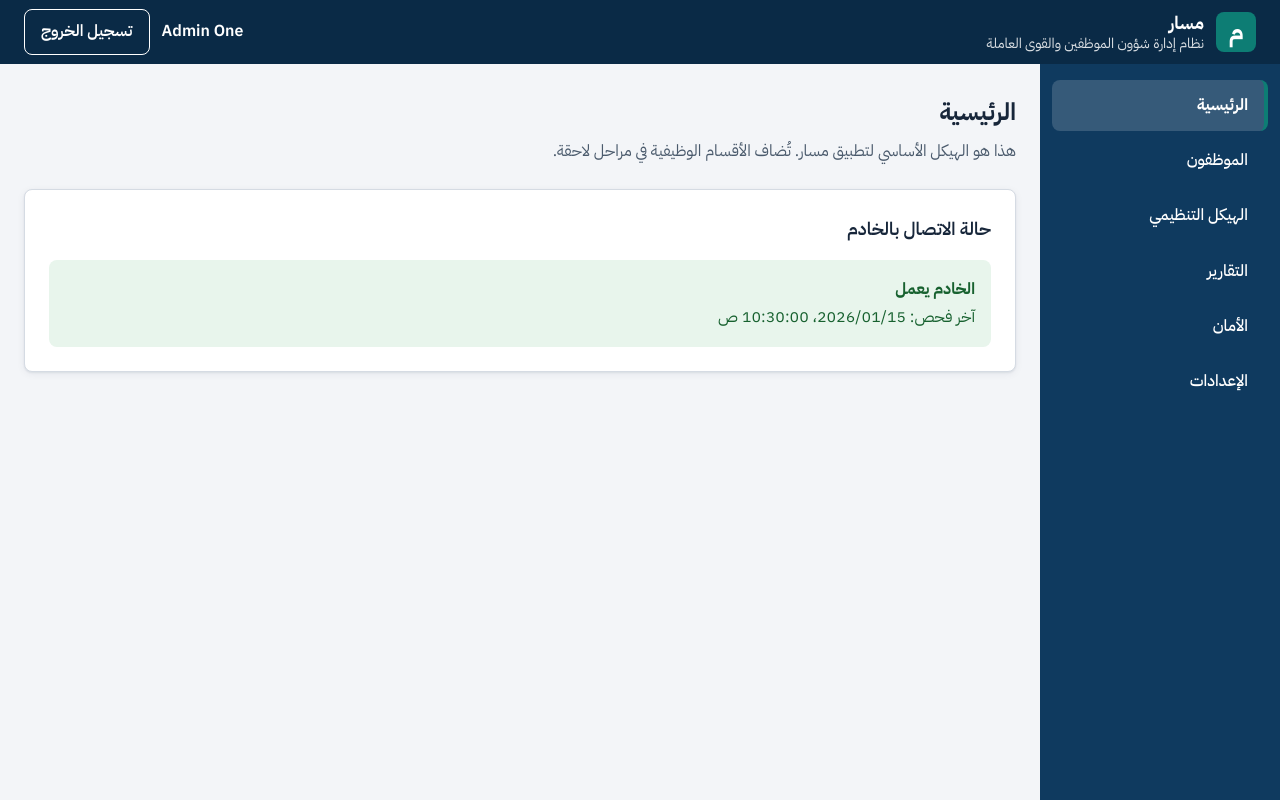
Test case: authentication › signs out back to the unauthenticated state
The width and height of the screenshot is (1280, 800).
Expected: the text "Admin One" is shown, [162,18,243,46]
Click the button "تسجيل الخروج". click: point(87, 32)
box: [24,9,150,55]
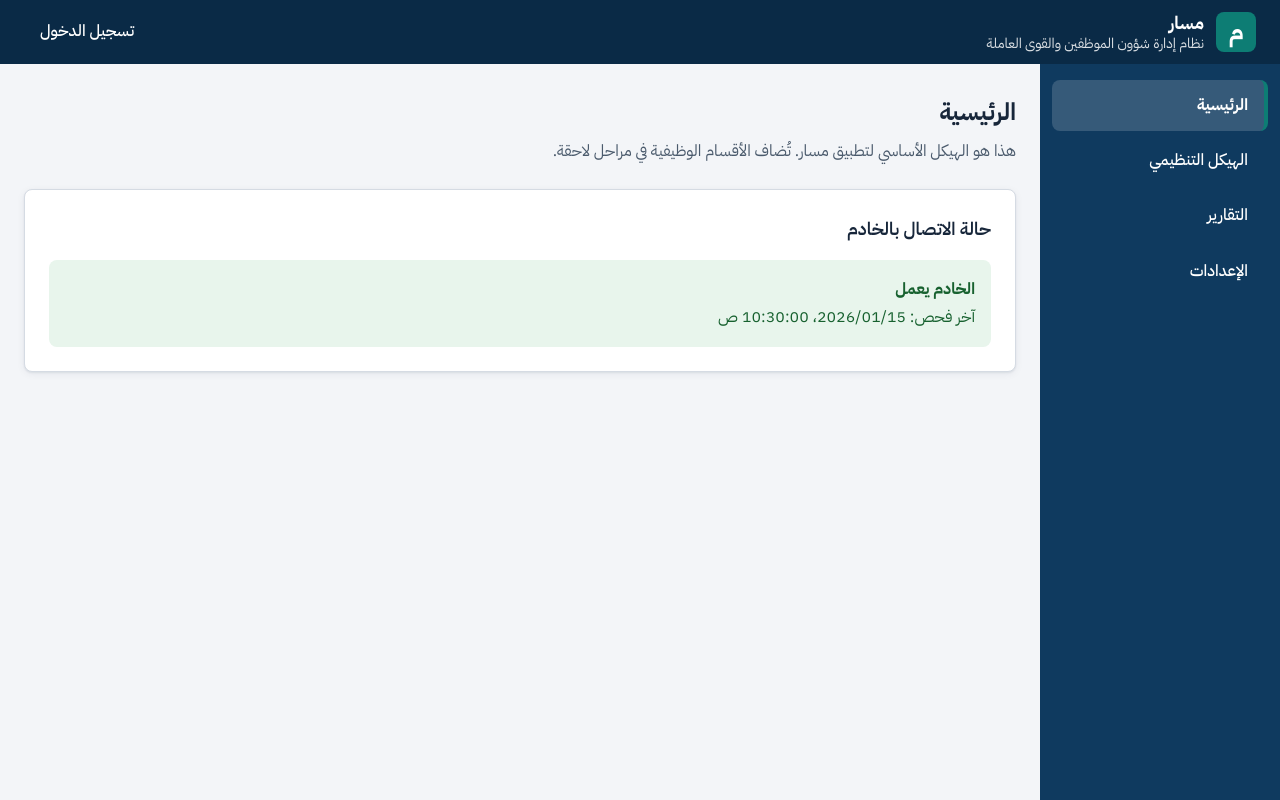
Expected: the link "تسجيل الدخول" is shown, [40,19,134,43]
Expected: the text "Admin One" is gone
